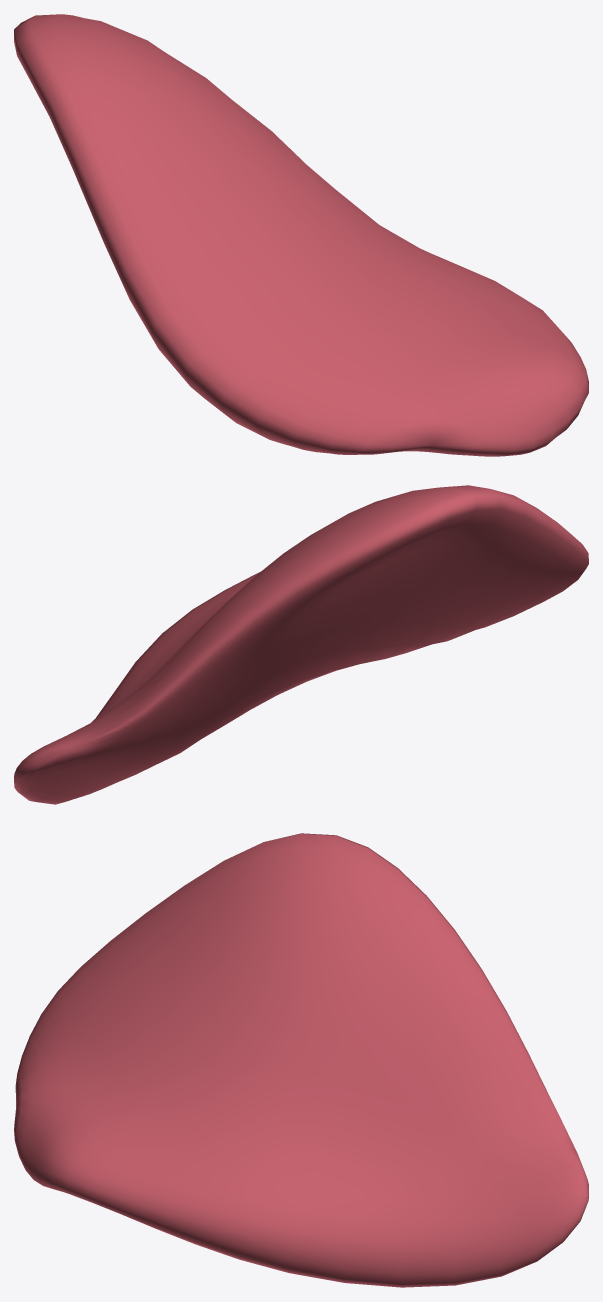
3 renders of one model, top to bottom at view 1: azimuth 30°, elevation 25°; view 2: azimuth 150°, elevation 25°; view 3: azimuth 270°, elevation 25°, orthographic. The views are drawn at different scales.
Parts seen in each view (by area): view 1: 左侧臀中肌转子囊; view 2: 左侧臀中肌转子囊; view 3: 左侧臀中肌转子囊.
Boxes of the visible parts, x1,y1,x2,y2 form: 左侧臀中肌转子囊: (14, 14, 588, 456); 左侧臀中肌转子囊: (14, 485, 588, 804); 左侧臀中肌转子囊: (14, 833, 588, 1287).
Size of the model in its own units: 0.0228 by 0.0194 by 0.0328.
